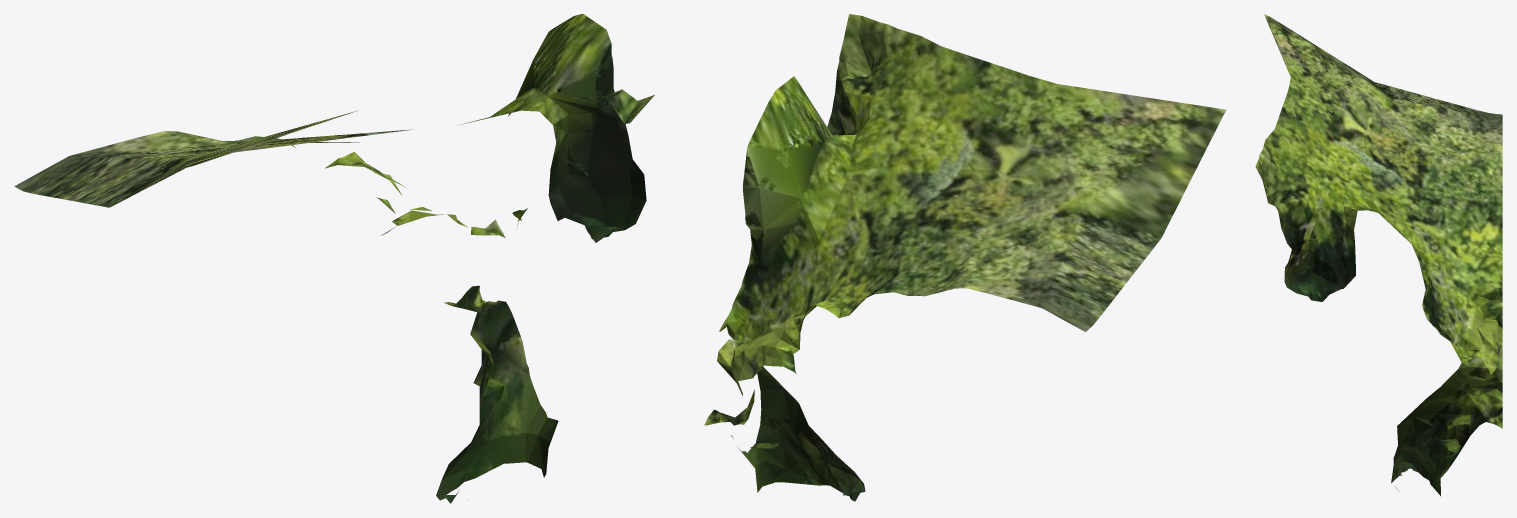
3 renders of one model, left to right at view 1: azimuth 30°, elevation 25°; view 2: azimuth 150°, elevation 25°; view 3: azimuth 270°, elevation 25°, orthographic. The views are drawn at different scales.
Bounding box in the file's own units: 26.11 × 26.11 × 17.35.
3 materials, 3 textured.
